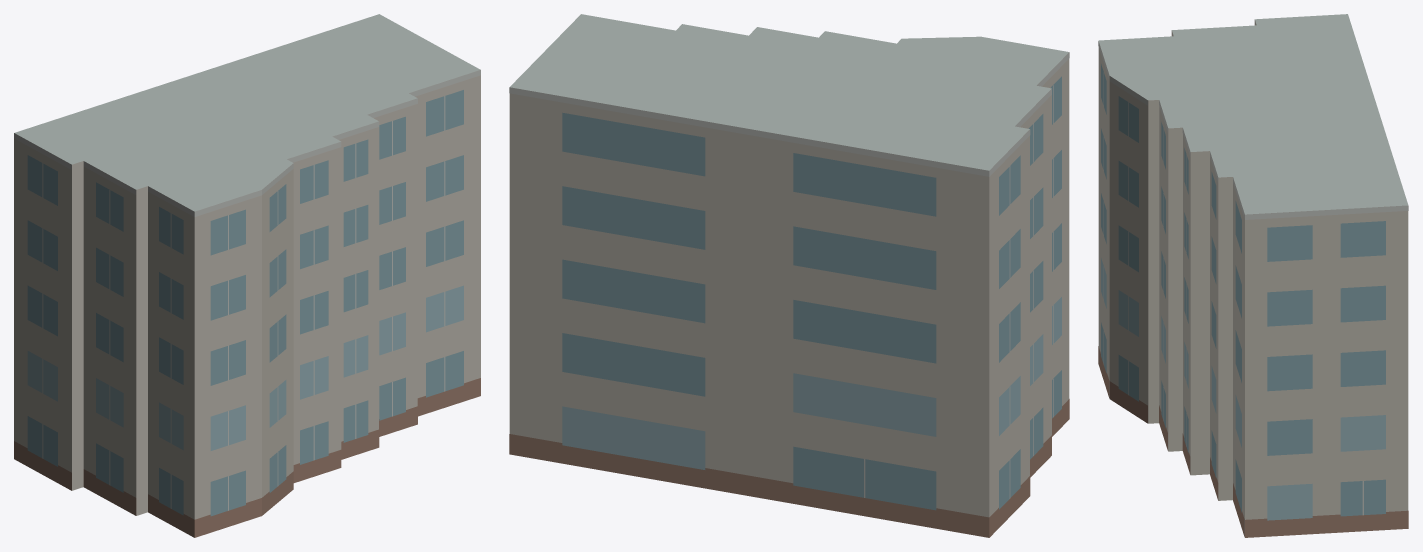
Rendered from survey-upis-32669365.glb.
3 views of the same model, side by side, from view 1: azimuth 30°, elevation 25°; view 2: azimuth 150°, elevation 25°; view 3: azimuth 270°, elevation 25° (orthographic). The views are drawn at different scales.
Visible parts, largest first — view 1: survey-upis-32669365.tmp; view 2: survey-upis-32669365.tmp; view 3: survey-upis-32669365.tmp.
Boxes of the visible parts, left/top/right/bottom form: survey-upis-32669365.tmp: left=14, top=14, right=480, bottom=537; survey-upis-32669365.tmp: left=509, top=14, right=1069, bottom=537; survey-upis-32669365.tmp: left=1098, top=14, right=1408, bottom=537.
Bounding box in the file's own units: 19.3 × 14.5 × 12.61.
